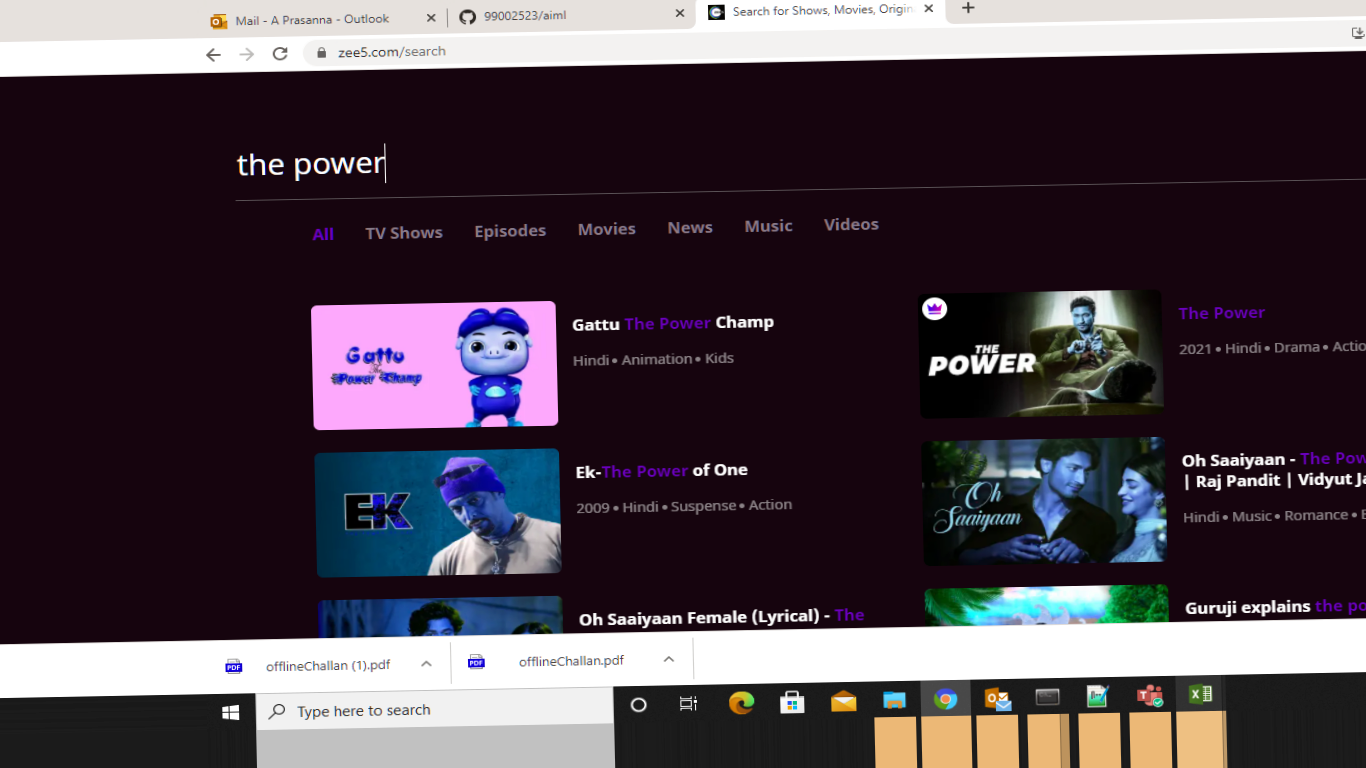searchtextbox: (215, 112, 1351, 204)
